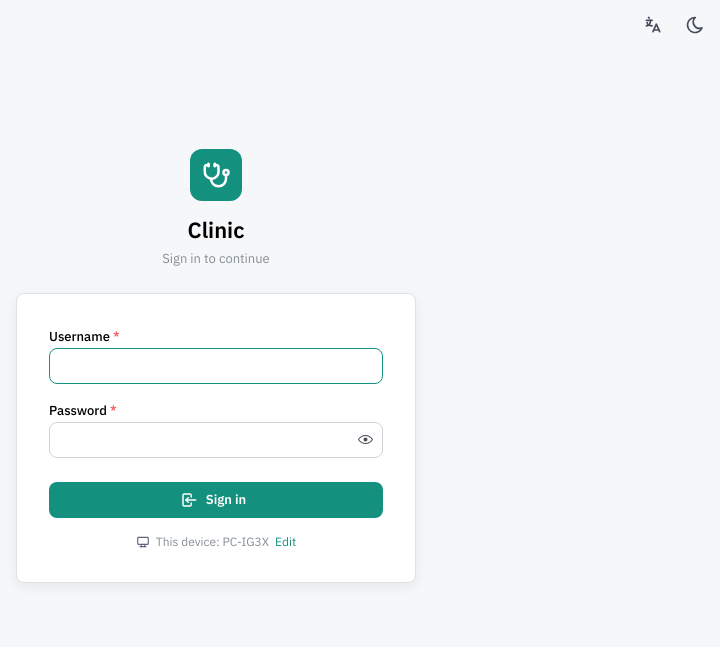
Scenario: sign-in › explains a locked account with the unlock time
In the field labelled "Username *": (216, 366) [49,348,383,384], type "amal"
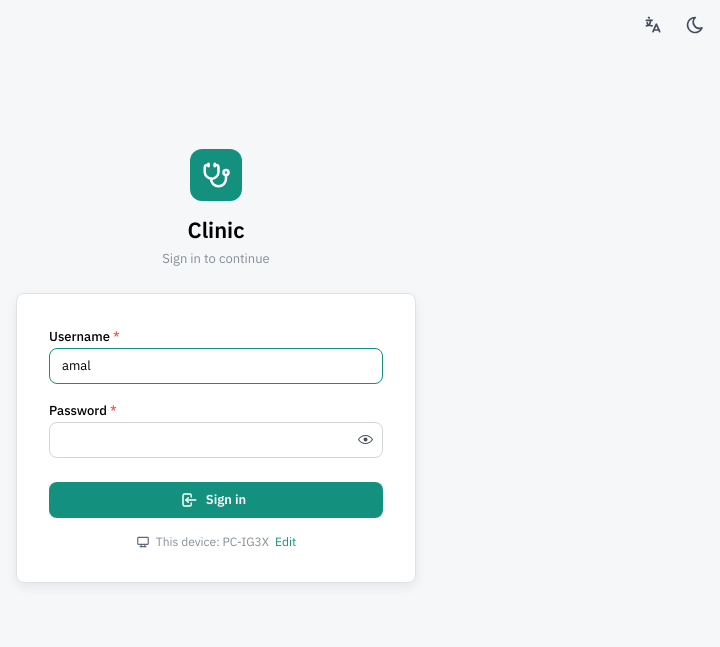
In the password field labelled "Password *": (216, 440) [50,422,382,456], type "whatever-123"
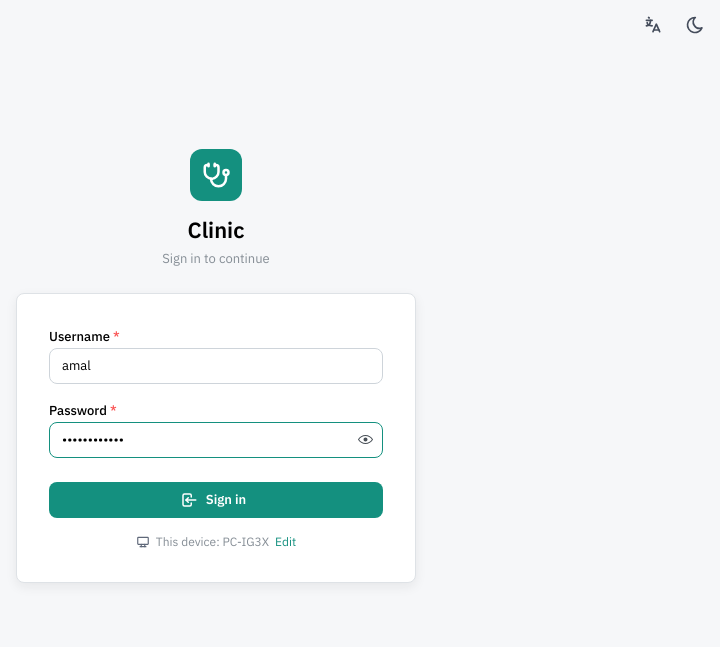
Click the button "Sign in": (216, 500) [49,482,383,518]
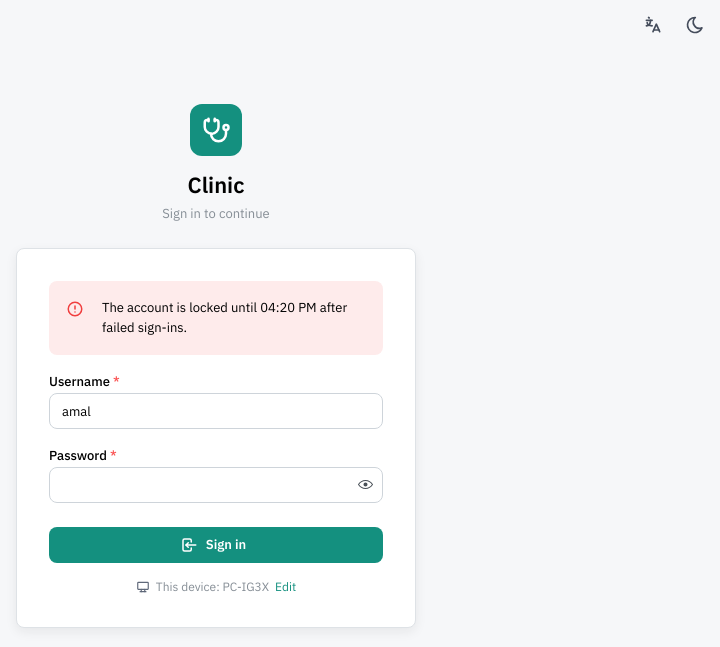
Now the message with test id "login-error" shows "locked until 04:20 PM", box [102,299,347,336]
